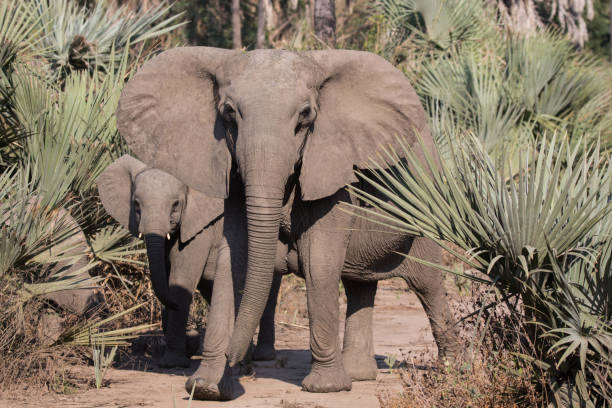africanelephant: (186, 55, 350, 245)
